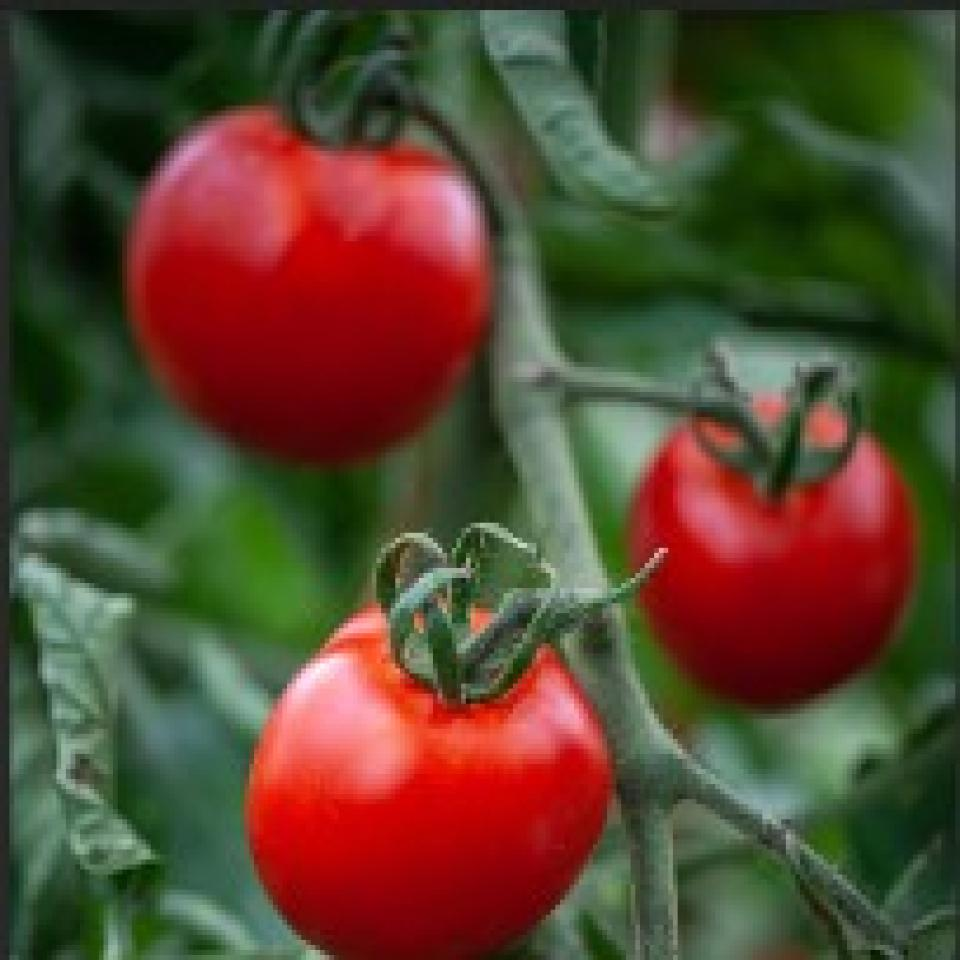Healthy: (245, 563, 612, 960), (125, 104, 487, 451), (637, 370, 906, 705)
